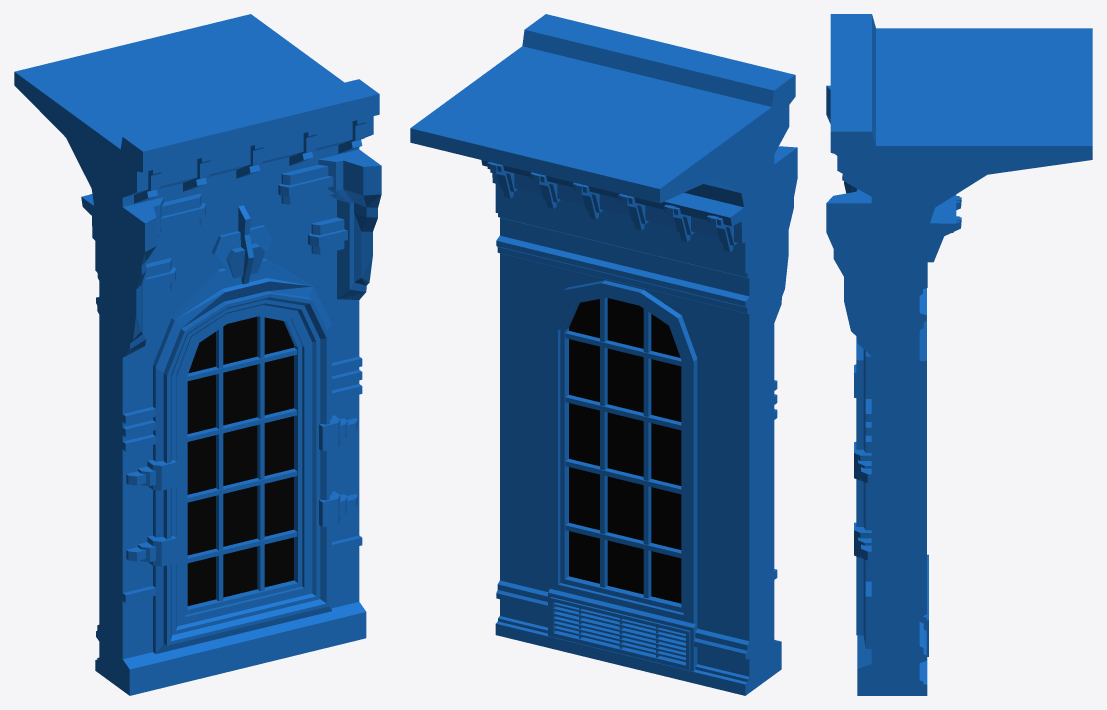
Rendered from SM_exterior_wall1.fbx.
3 renders of one model, left to right at view 1: azimuth 30°, elevation 25°; view 2: azimuth 150°, elevation 25°; view 3: azimuth 270°, elevation 25°, orthographic. The views are drawn at different scales.
Parts seen in each view (by area): view 1: exterior_wall1; view 2: exterior_wall1; view 3: exterior_wall1.
Part boxes in pixels (left/top/right/bottom): exterior_wall1: left=14, top=14, right=381, bottom=695; exterior_wall1: left=410, top=14, right=797, bottom=695; exterior_wall1: left=826, top=14, right=1092, bottom=695.
Size of the model in its own units: 200 by 447 by 191.
